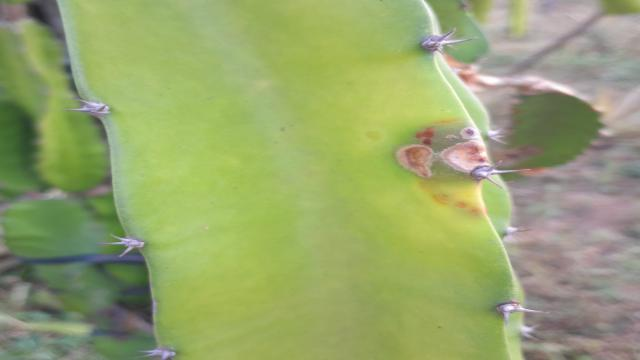stemcanker: (390, 119, 492, 219)
